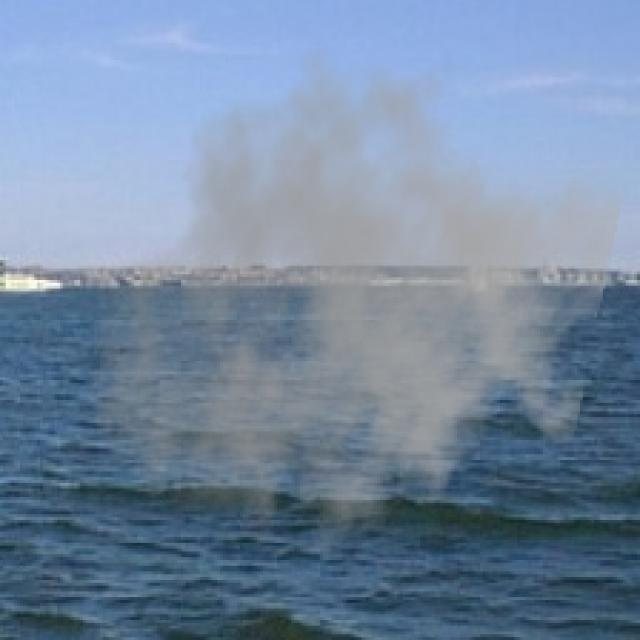Smoke: (85, 43, 626, 586)
